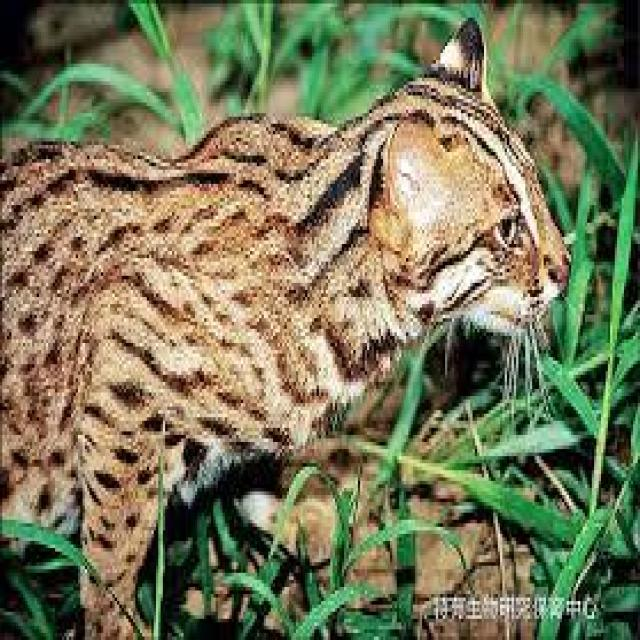leopard: (48, 99, 579, 438)
